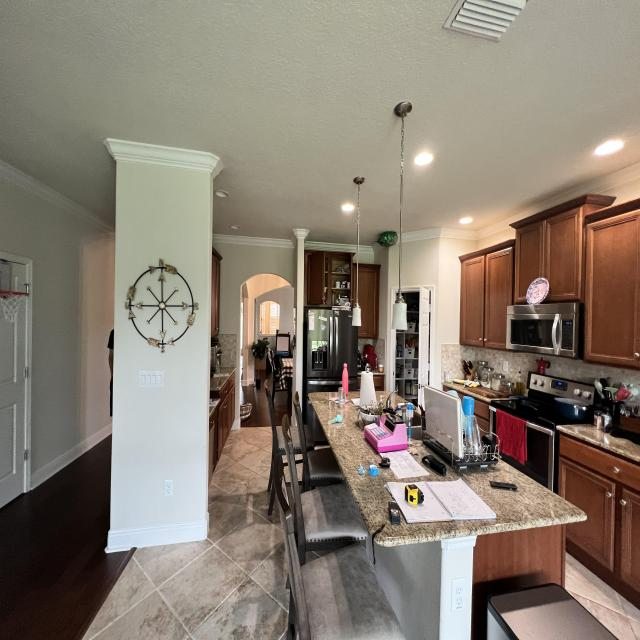Appliance_Fridge: (305, 307, 359, 394)
Appliance_Microwave: (508, 301, 584, 359)
Appliance_Oven: (493, 373, 595, 493)
Cabinet_Flat: (561, 435, 640, 490)
Cabinet_Shaker: (460, 195, 640, 371), (560, 458, 640, 610), (305, 251, 381, 339)
Countertop_Granite: (309, 389, 588, 546), (556, 425, 640, 464)
